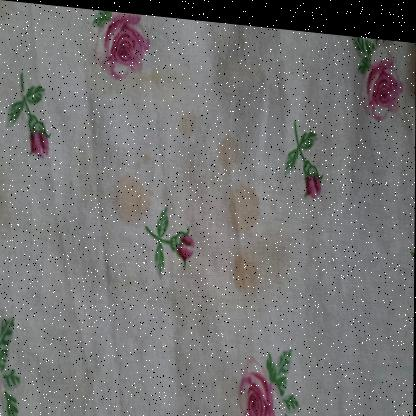spot: (228, 236, 294, 300), (110, 171, 156, 234), (220, 179, 262, 236), (212, 125, 246, 178), (177, 98, 206, 151), (273, 144, 283, 159)
